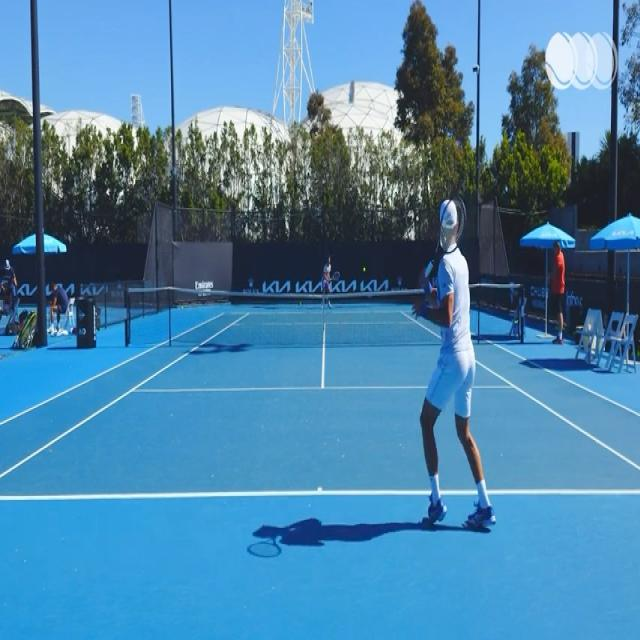forehand-finish: (413, 197, 497, 525)
